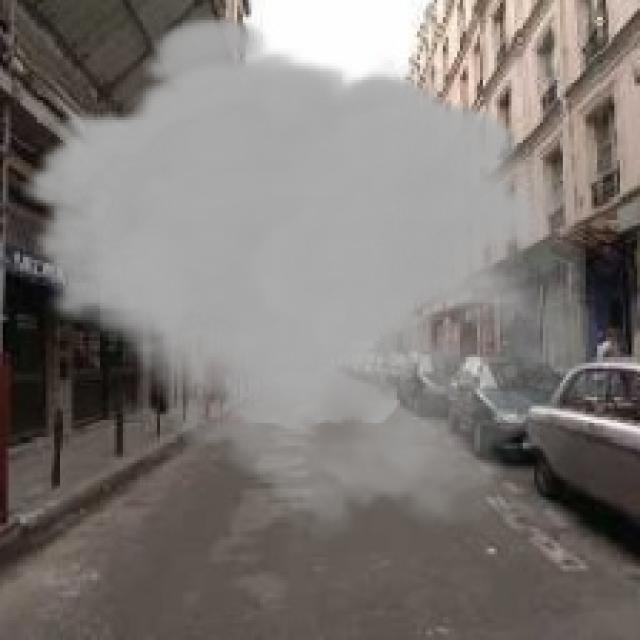smoke: (20, 11, 586, 543)
